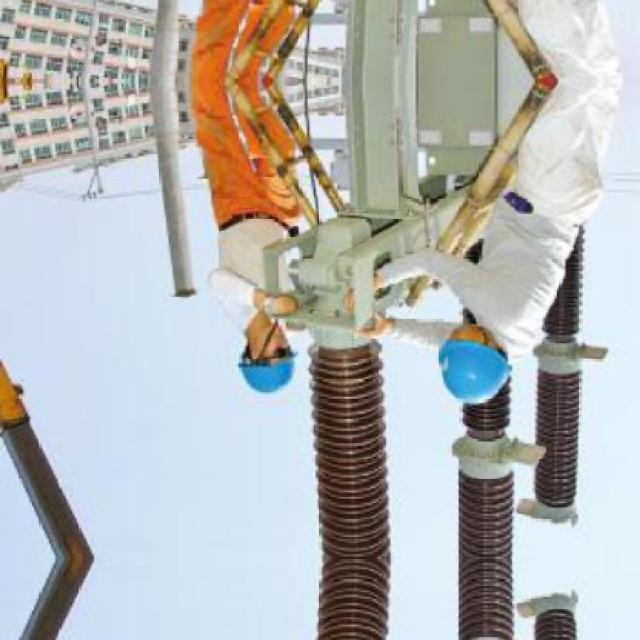con casco: (210, 290, 322, 405), (424, 282, 520, 408)
